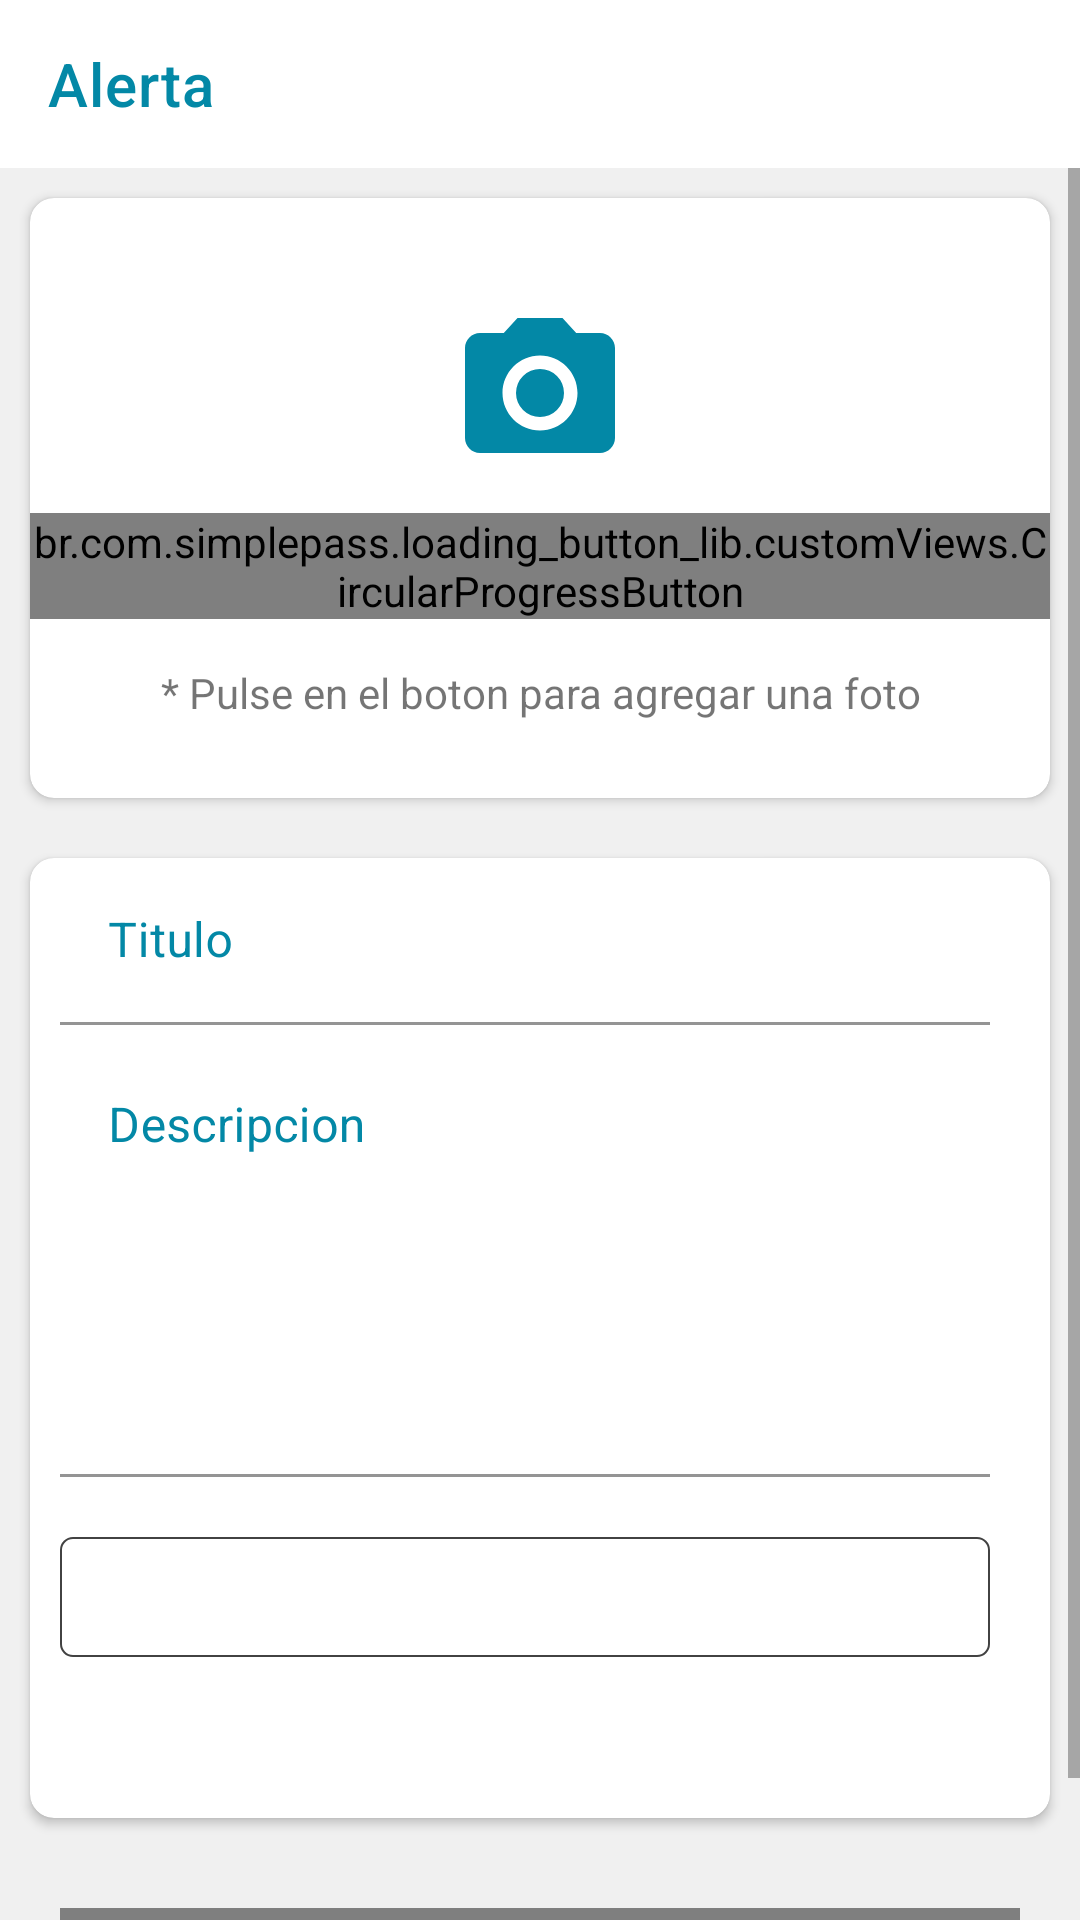

Icons on this 1080x1920 Android screen, each with the point to tap as (x,y):
camera: (540,385)
